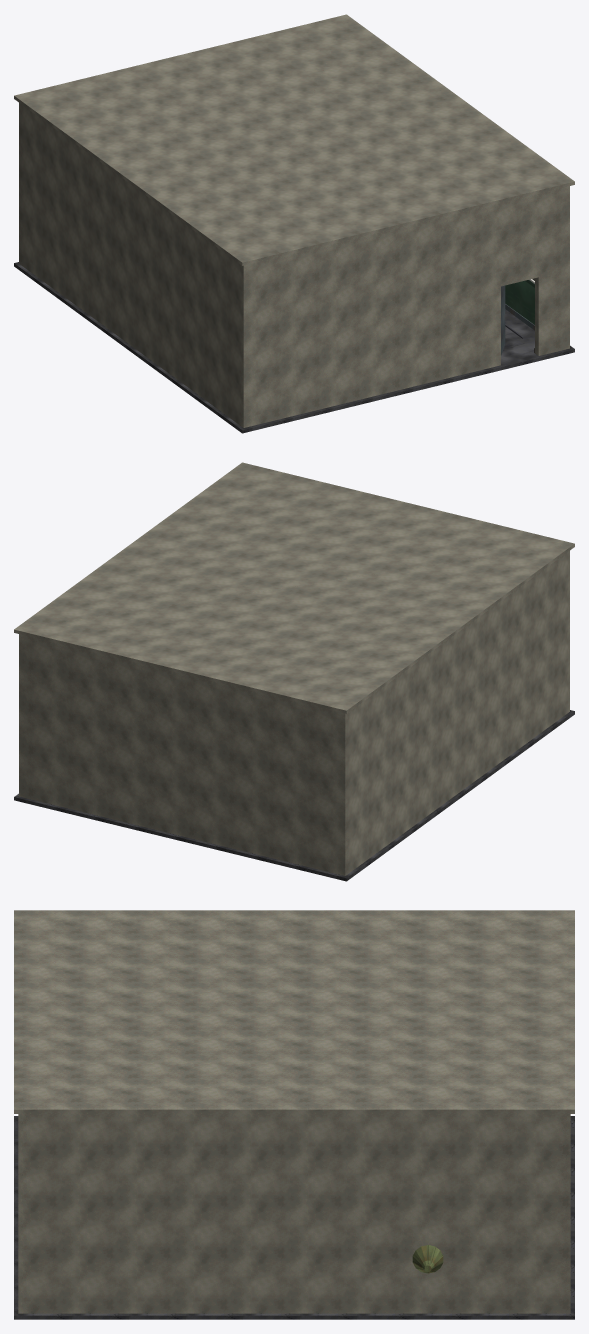
Rendered from laboratorio.glb.
The picture shows the model from 3 angles, top to bottom: view 1: azimuth 30°, elevation 25°; view 2: azimuth 150°, elevation 25°; view 3: azimuth 270°, elevation 25°; orthographic projection. The views are drawn at different scales.
Visible parts, largest first — view 1: plaster-col, concrete-col, paint_green; view 2: plaster-col, concrete-col; view 3: plaster-col, concrete-col, missile_skin-col.
Part boxes in pixels (x1=…): plaster-col: x1=14, y1=14, x2=574, y2=427; concrete-col: x1=14, y1=262, x2=574, y2=433; paint_green: x1=505, y1=280, x2=534, y2=324; plaster-col: x1=14, y1=462, x2=574, y2=875; concrete-col: x1=14, y1=710, x2=574, y2=881; plaster-col: x1=14, y1=910, x2=574, y2=1313; concrete-col: x1=14, y1=1116, x2=574, y2=1319; missile_skin-col: x1=412, y1=1245, x2=443, y2=1273.
Size of the model in its own units: 11 by 5.2 by 12.6.
72 materials, 18 textured.
